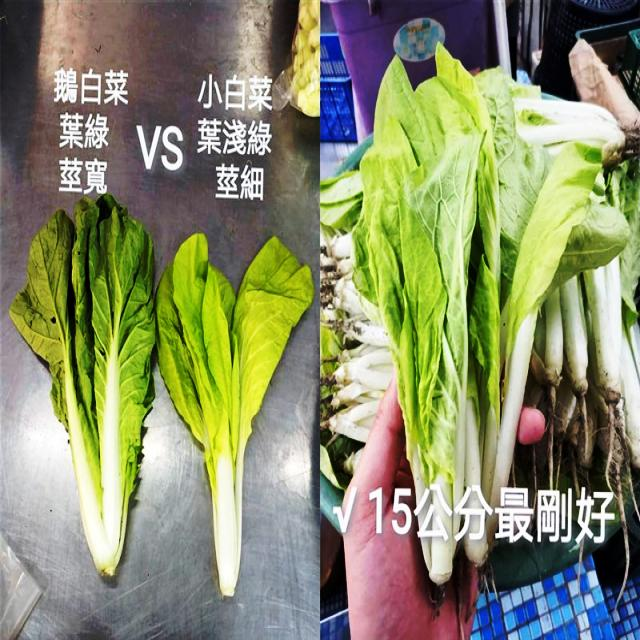chinese_cabbage: (166, 202, 301, 596)
